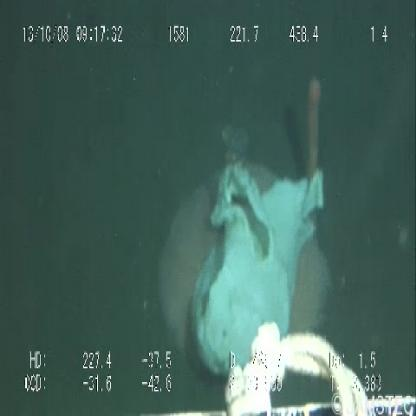Rov: (176, 325, 416, 416)
Rác: (186, 156, 330, 371)
